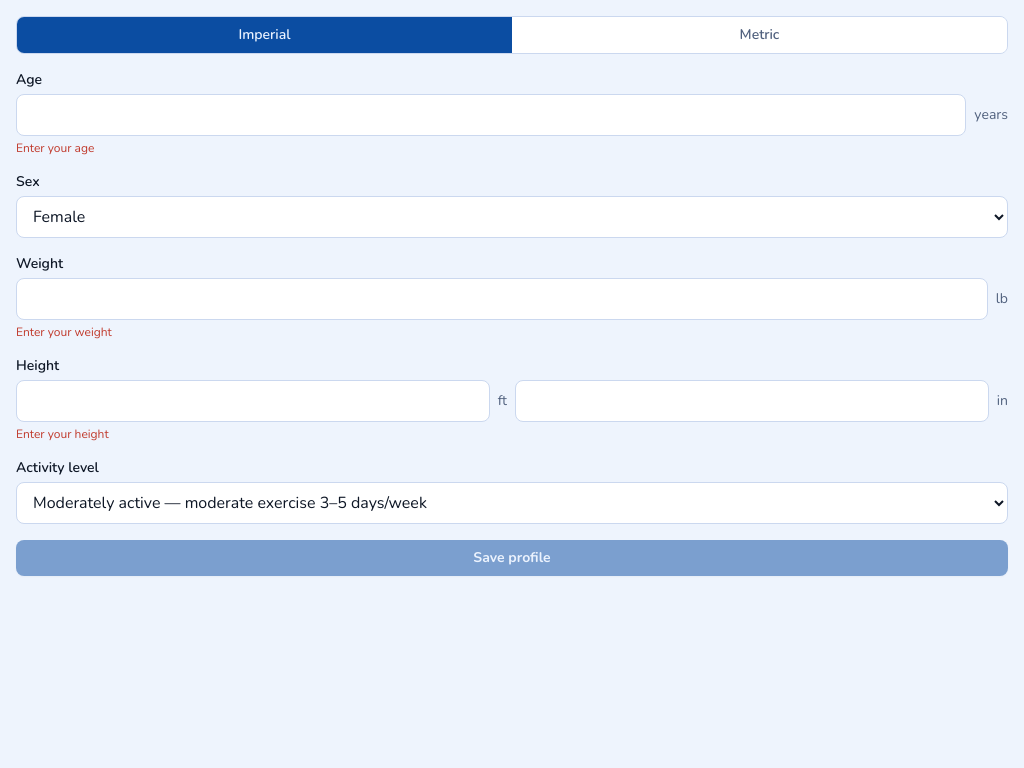
Test: EatProfileForm › converts visible values in place when the units toggle flips
In the number field labelled "Age": {"x": 491, "y": 115} [16, 94, 966, 136], type "30"
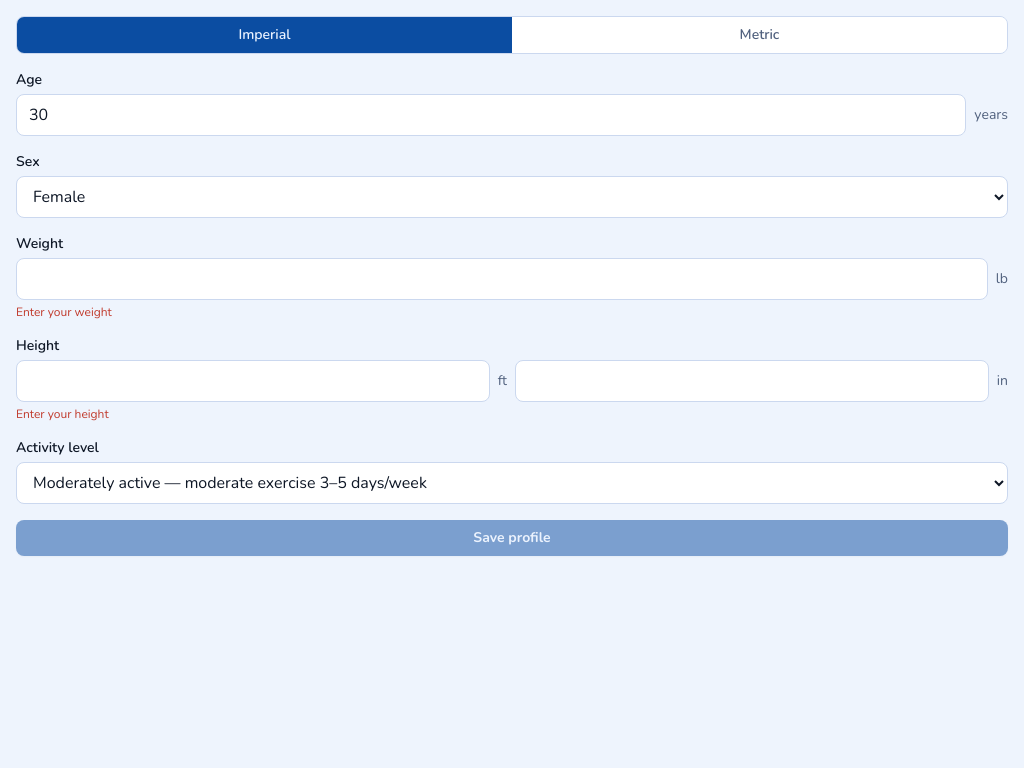
In the number field labelled "Weight": {"x": 502, "y": 279} [16, 258, 988, 300], type "154"
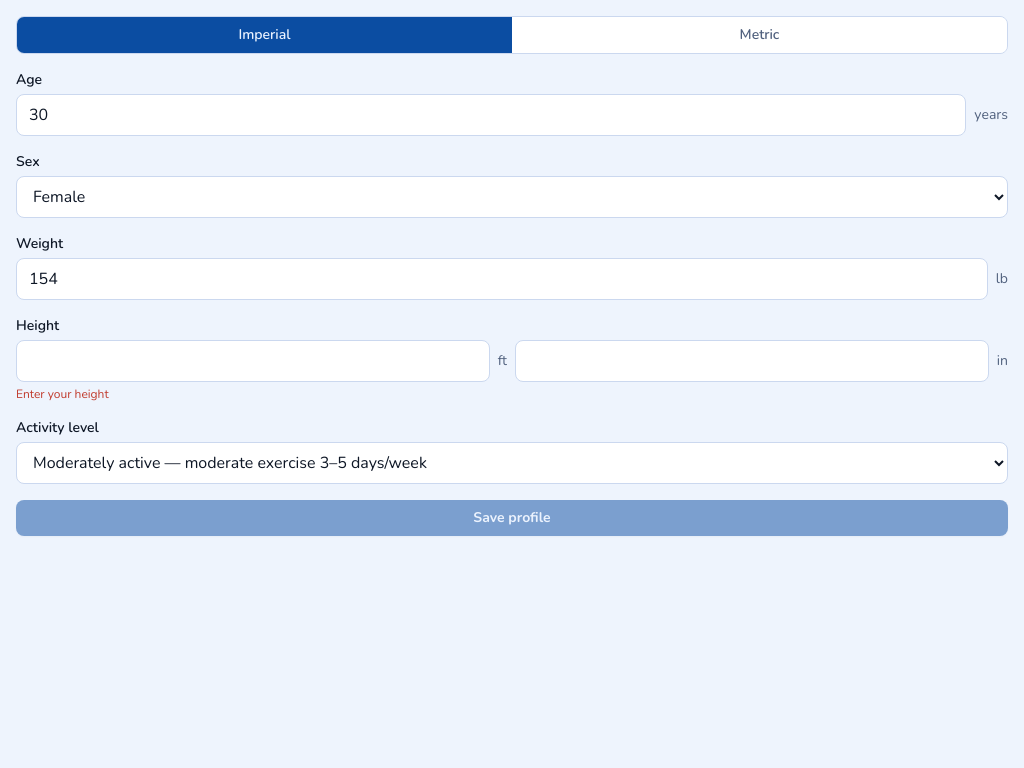
In the number field named "Height (feet)": {"x": 253, "y": 361} [16, 340, 490, 382], type "5"
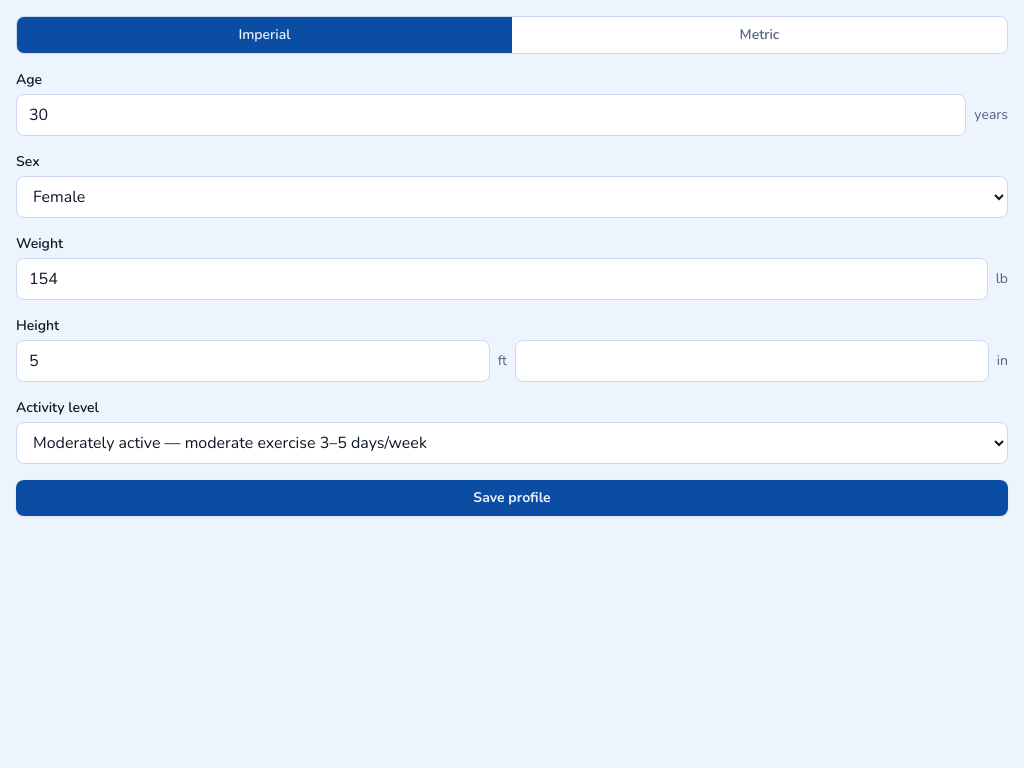
In the number field named "Height (inches)": {"x": 752, "y": 361} [515, 340, 989, 382], type "9"
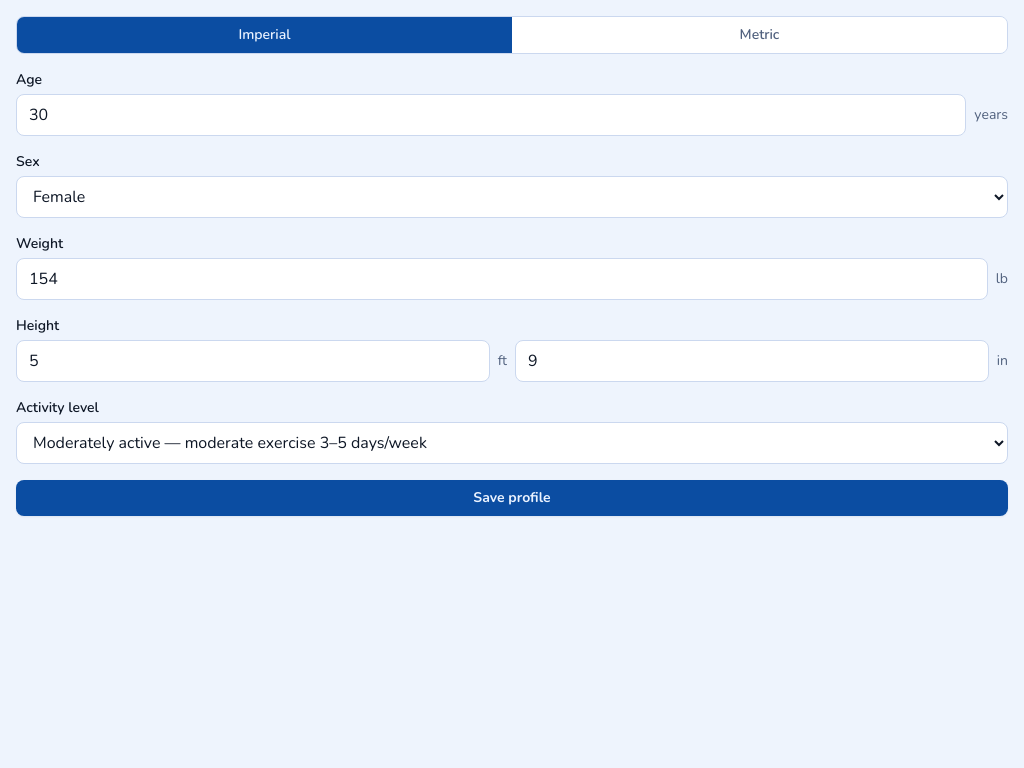
Click the button "metric": {"x": 760, "y": 35} [512, 17, 1007, 53]
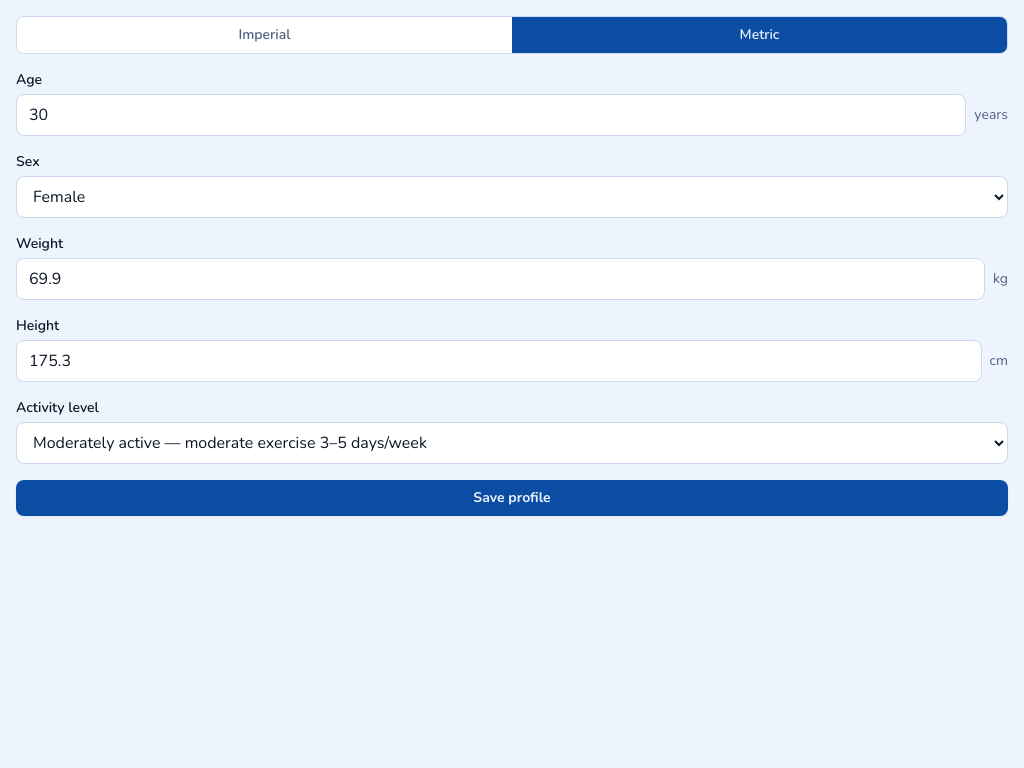
Now the number field labelled "Weight" holds "69.9", box [16, 258, 985, 300]
Now the number field labelled "Height" holds "175.3", box [16, 340, 982, 382]
